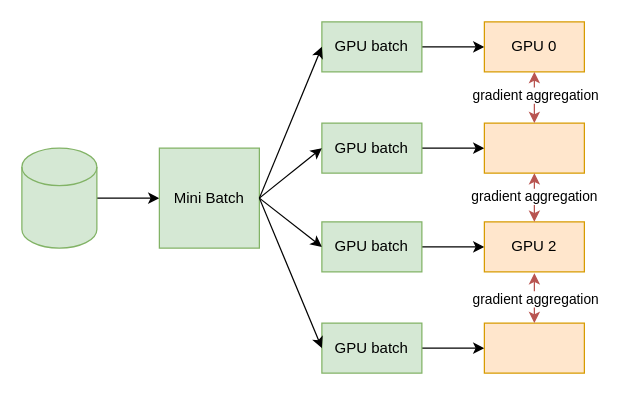
Some shapes in this 620 by 395 pixel diagram are drawn without their labels. The shapes that lost their labels are listed below. From the top down, each one's box as (x1, y1, x2, y2) in pixels, then its label:
(483, 122, 584, 173): GPU 1
(21, 147, 97, 248): Dataset
(483, 322, 584, 373): GPU 3
